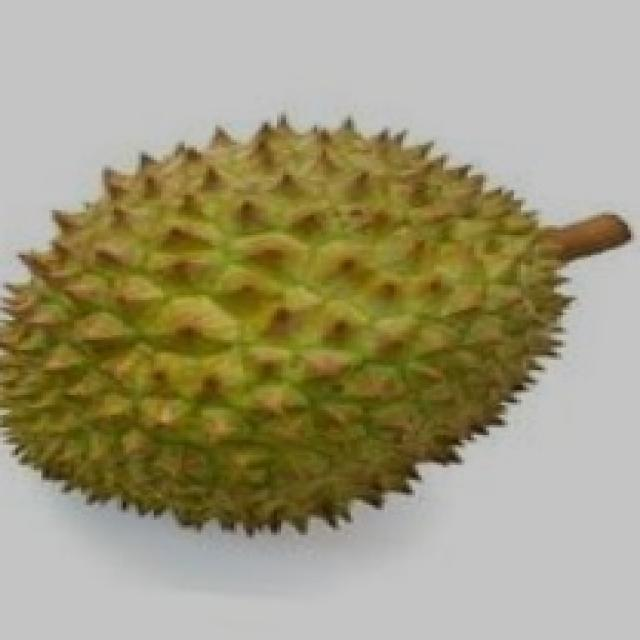fruit: (0, 190, 345, 592)
